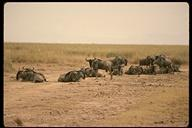antelope: (85, 56, 115, 80), (57, 64, 87, 83), (14, 68, 45, 84), (138, 54, 156, 67), (112, 56, 128, 67)
grass: (7, 43, 81, 65)
sky: (4, 3, 187, 44)
